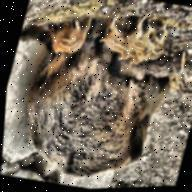boar: (6, 20, 188, 191), (38, 1, 95, 63), (94, 14, 138, 64), (158, 53, 192, 104), (126, 19, 164, 60)
